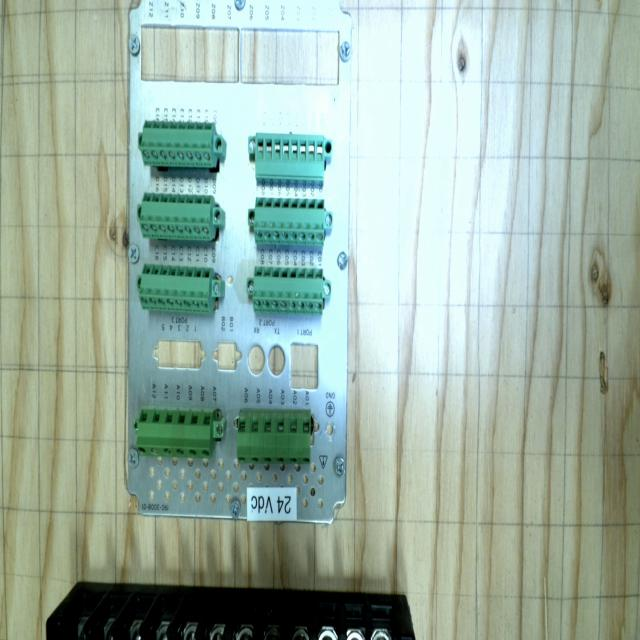Terminal_1: (236, 411, 311, 466), (136, 408, 213, 459)
Terminal_2: (138, 263, 212, 314), (253, 196, 326, 247), (139, 192, 213, 241), (140, 120, 214, 168), (252, 266, 324, 315)
